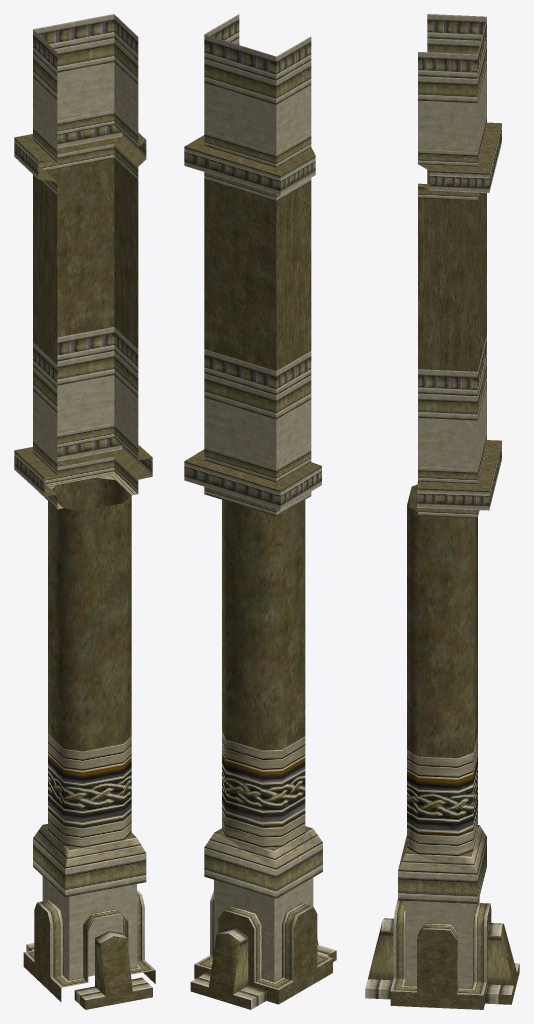
Rendered from CH09_SMAUG_PLAYSURFACE_LAIR60.fbx.
3 views of the same model, side by side, from view 1: azimuth 30°, elevation 25°; view 2: azimuth 150°, elevation 25°; view 3: azimuth 270°, elevation 25° (orthographic).
Parts seen in each view (by area): view 1: CH09_SMAUG_PLAYSURFACE_LAIR60; view 2: CH09_SMAUG_PLAYSURFACE_LAIR60; view 3: CH09_SMAUG_PLAYSURFACE_LAIR60.
Part boxes in pixels (left/top/right/bottom): CH09_SMAUG_PLAYSURFACE_LAIR60: left=14, top=14, right=155, bottom=1009; CH09_SMAUG_PLAYSURFACE_LAIR60: left=184, top=14, right=336, bottom=1009; CH09_SMAUG_PLAYSURFACE_LAIR60: left=365, top=14, right=519, bottom=1009.
Size of the model in its own units: 32491 by 271667 by 39831.
Materials: 7 (7 with a texture image).
